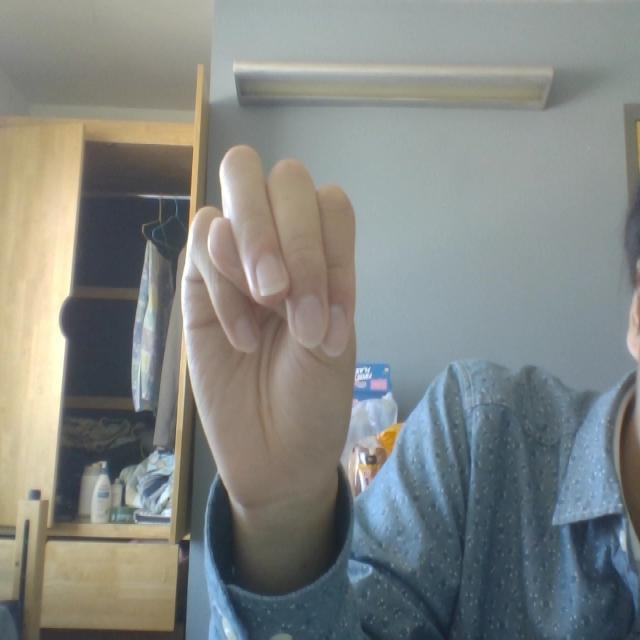M: (155, 120, 422, 542)
